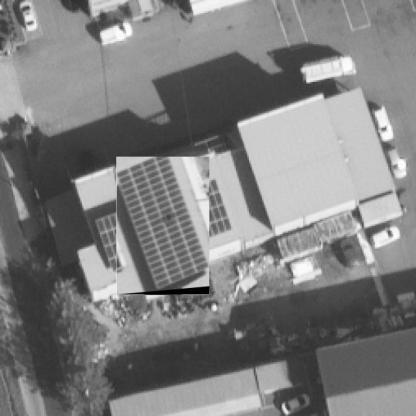solar-pv-panel: (117, 157, 209, 292)
